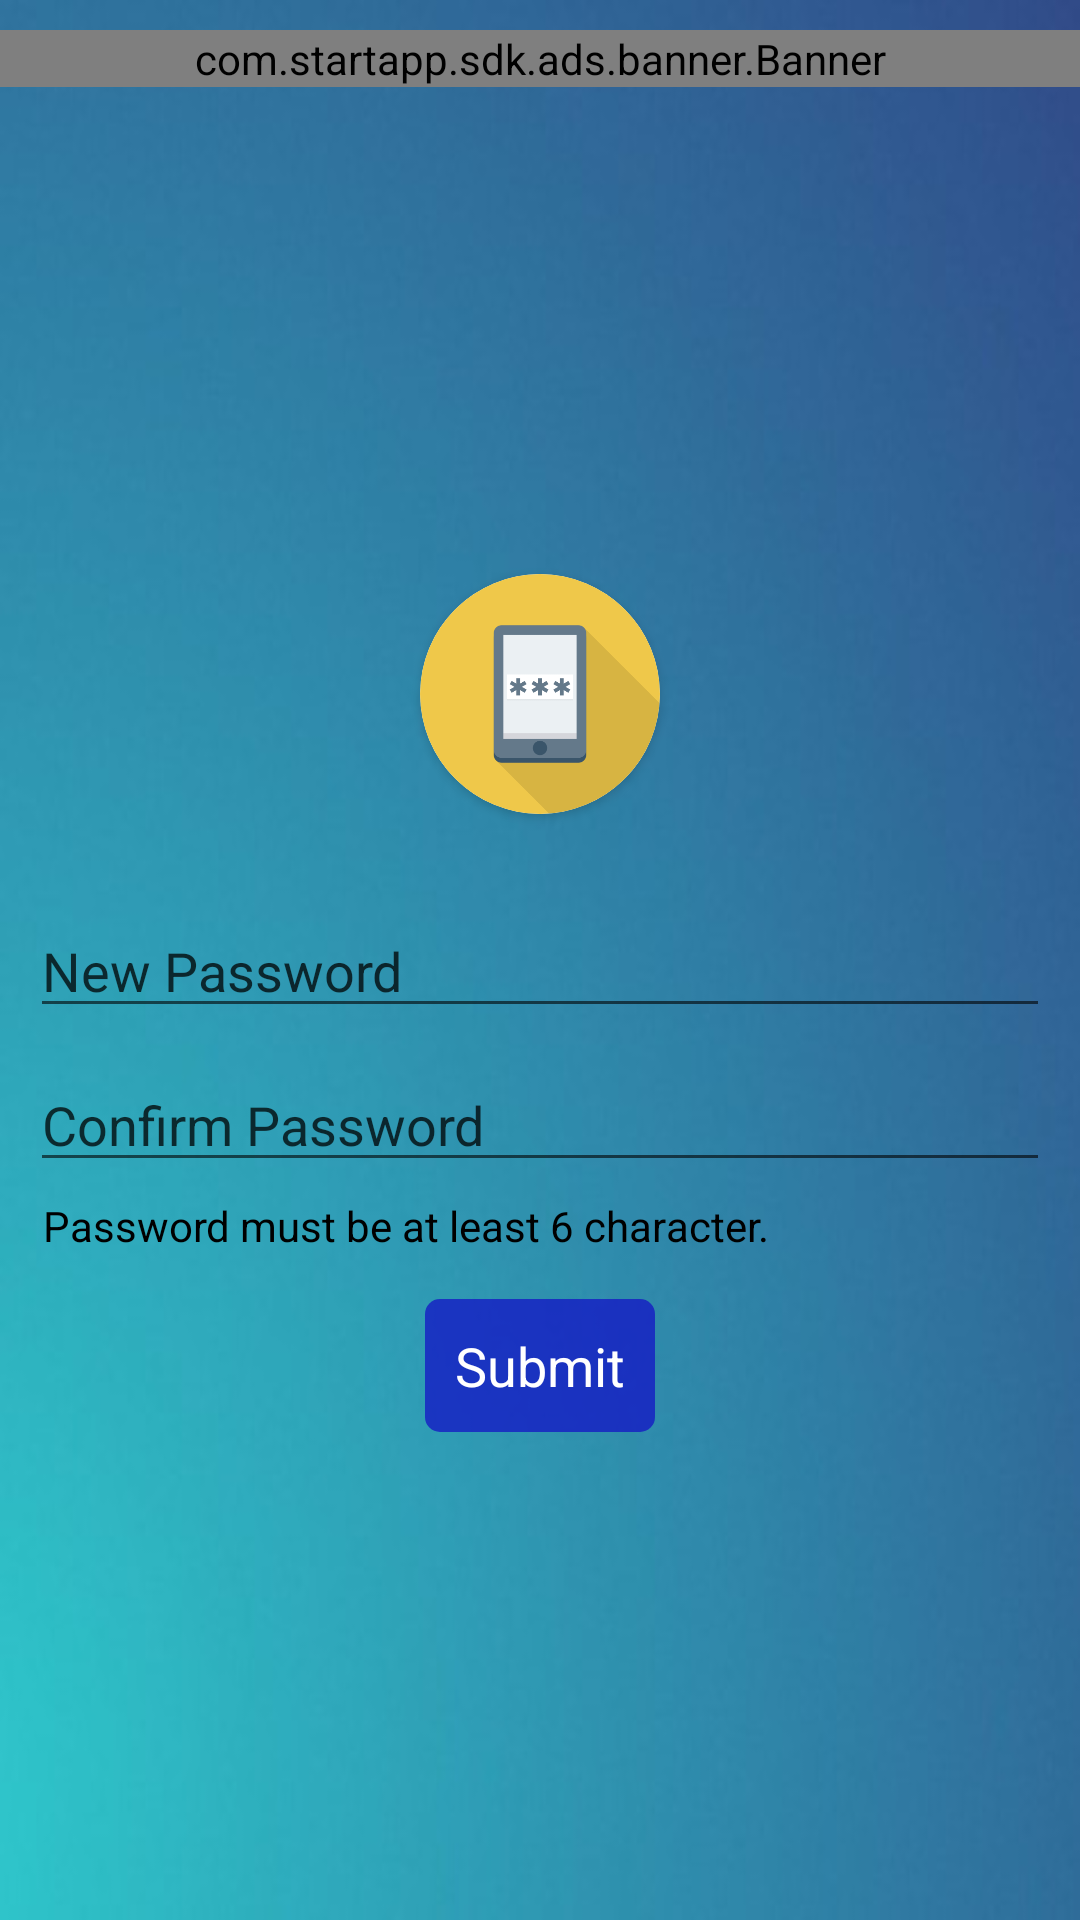

Icon click points for this 1080*1920 phone screenshot, format (x=x, y=y):
otp: (x=540, y=694)
